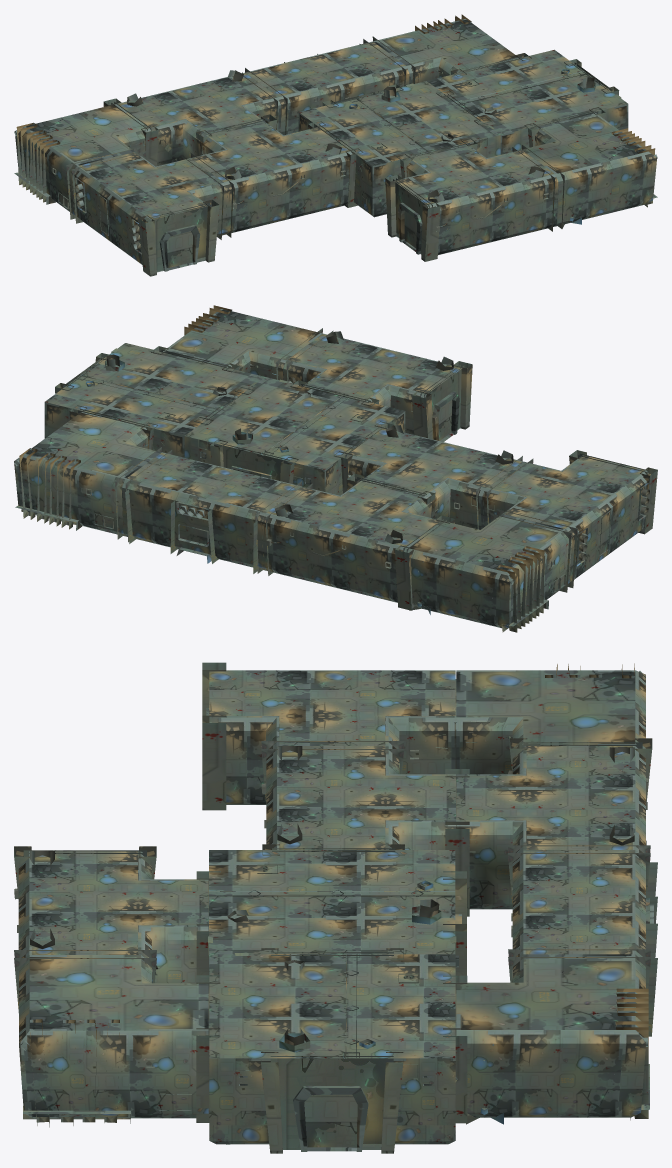
Rendered from Combined_Mesh_root_scene__1_e4e4d5ea__zombies2_diffuse_02_6de118bf_c1f257.obj.
3 views of the same model, one above another, from view 1: azimuth 30°, elevation 25°; view 2: azimuth 150°, elevation 25°; view 3: azimuth 270°, elevation 25° (orthographic). The views are drawn at different scales.
Bounding box in the file's own units: 77.02 × 9.64 × 52.3.
159 materials, 159 textured.
